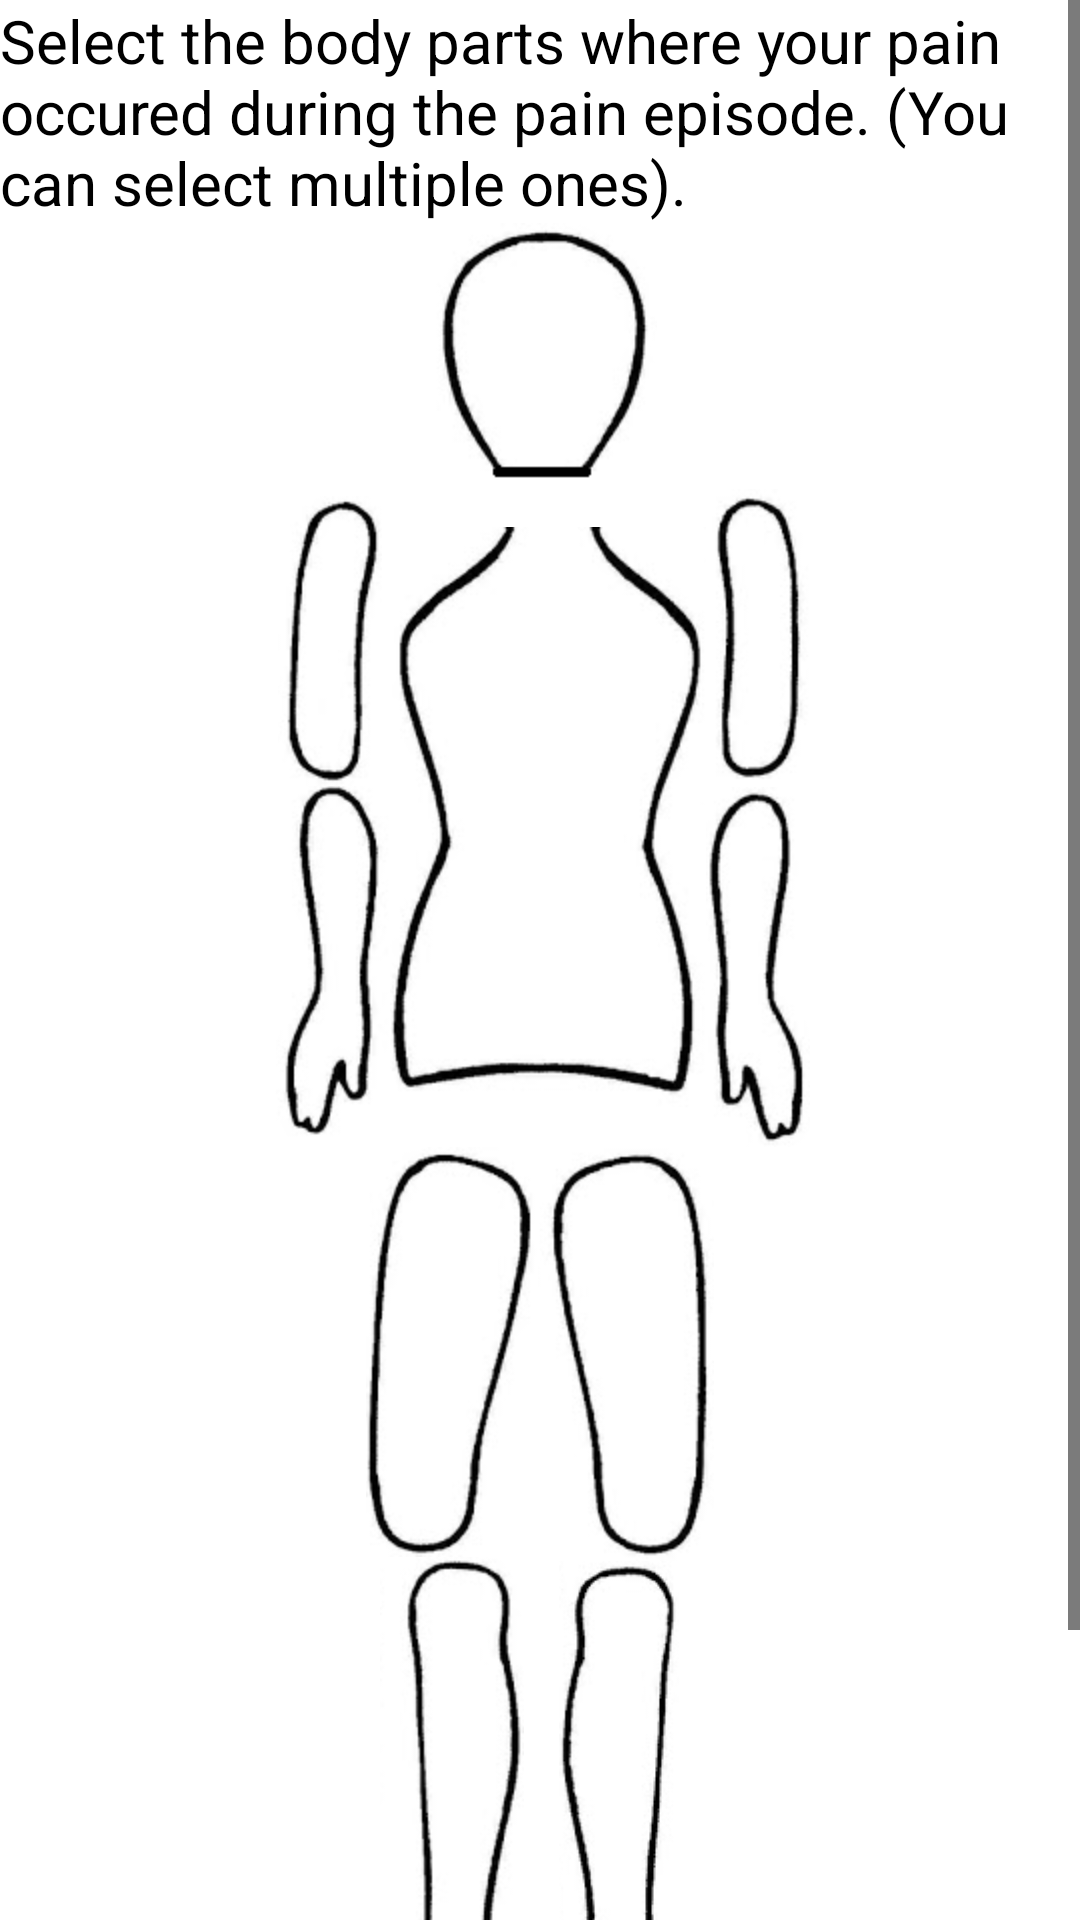

Where icons sit on this 1080x1920 app screen, as (x1, y1, x2, y2):
head: (442, 231, 647, 478)
left arm: (717, 498, 800, 778)
left forearm: (709, 793, 803, 1141)
right arm: (288, 501, 378, 781)
right forearm: (285, 786, 379, 1135)
